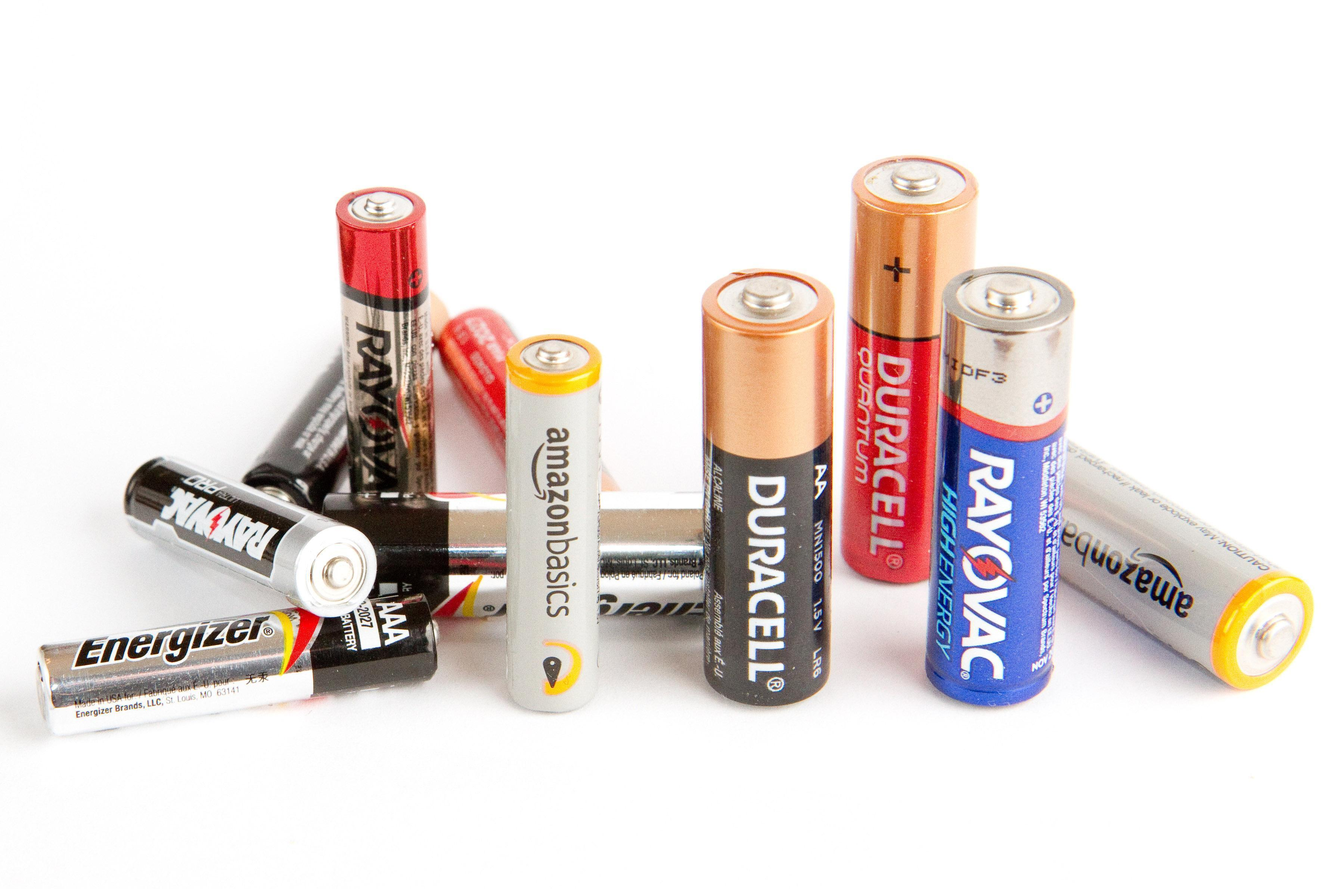AA: (922, 263, 1080, 713), (840, 151, 981, 590), (701, 265, 838, 712)
AAA: (31, 585, 445, 742), (121, 450, 381, 623), (504, 331, 604, 718), (335, 183, 441, 494)
